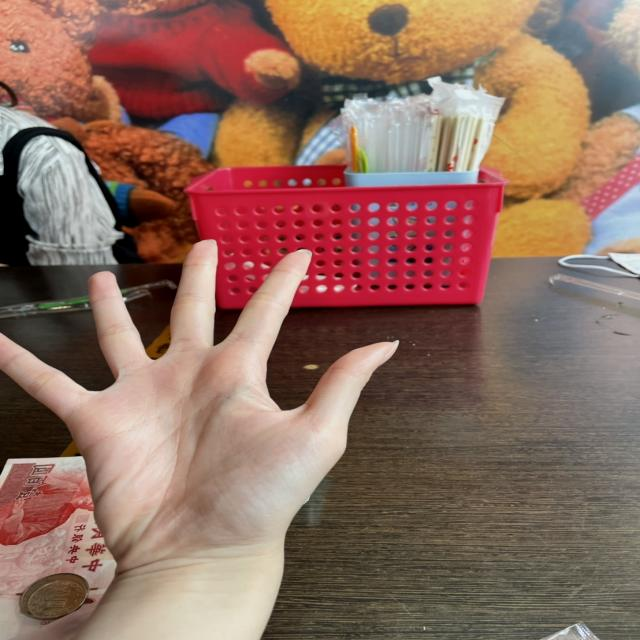no_glove: (0, 217, 406, 584)
